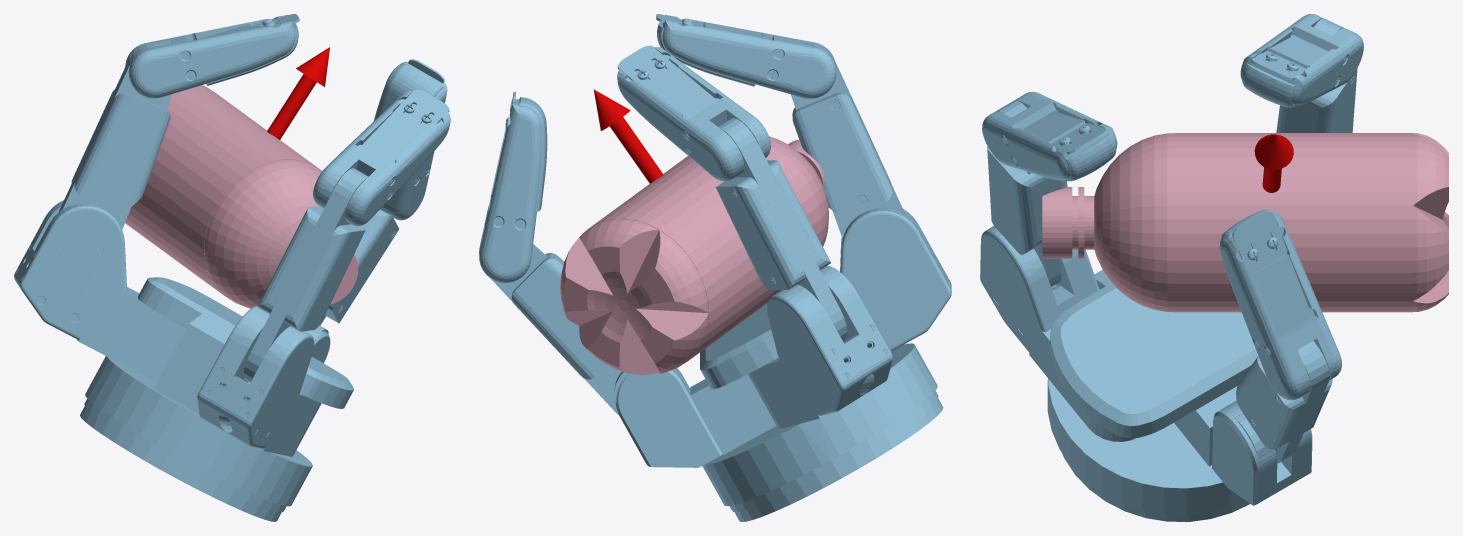
3 renders of one model, left to right at view 1: azimuth 30°, elevation 25°; view 2: azimuth 150°, elevation 25°; view 3: azimuth 270°, elevation 25°, orthographic. The views are drawn at different scales.
Parts seen in each view (by area): view 1: world, water_bottle.stl; view 2: world, water_bottle.stl; view 3: world, water_bottle.stl.
Boxes of the visible parts, x1,y1,x2,y2 form: world: (14, 14, 450, 521); water_bottle.stl: (125, 85, 358, 308); world: (479, 14, 951, 521); water_bottle.stl: (560, 136, 828, 375); world: (980, 14, 1363, 521); water_bottle.stl: (1042, 133, 1448, 312).
Bounding box in the file's own units: 0.1748 × 0.1856 × 0.1574.
